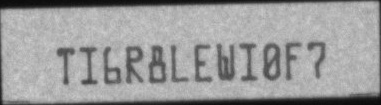0: (263, 41, 282, 82)
6: (103, 45, 121, 85)
7: (306, 41, 327, 79)
8: (148, 44, 167, 85)
E: (193, 43, 212, 84)
F: (285, 41, 301, 81)
I: (239, 41, 260, 82), (79, 45, 99, 86)
L: (170, 43, 189, 83)
R: (126, 44, 145, 85)
T: (57, 46, 76, 86)
W: (216, 42, 236, 82)
